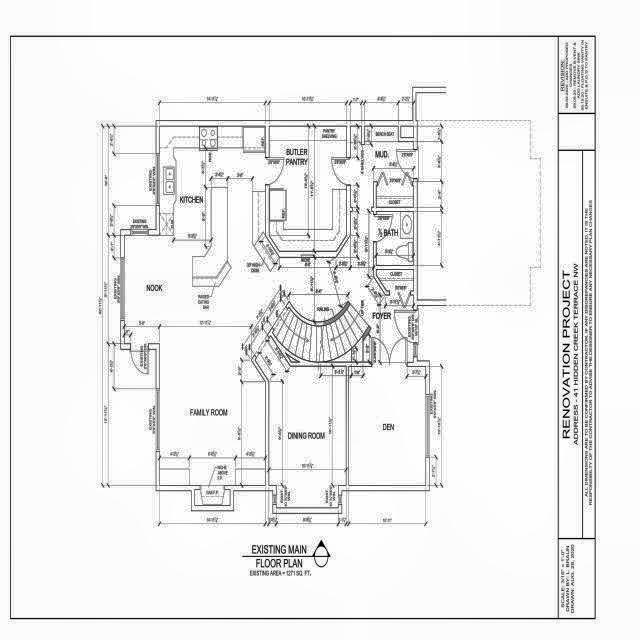room: (255, 336, 346, 508), (269, 126, 346, 251), (349, 367, 426, 485), (351, 126, 413, 207), (376, 212, 413, 265), (376, 186, 414, 207), (376, 270, 414, 291)
